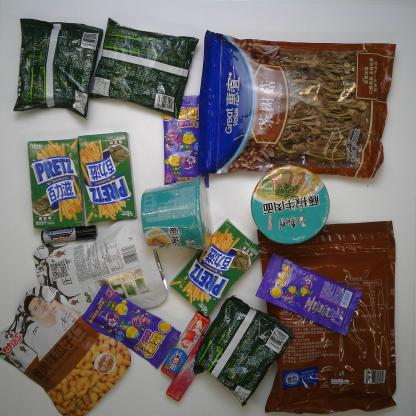Candy: (252, 253, 367, 339), (80, 283, 181, 369), (155, 89, 214, 190), (156, 305, 213, 380), (163, 332, 216, 402)
Dessert: (166, 214, 267, 318), (75, 128, 144, 226), (24, 132, 90, 232)
Dried Food: (195, 29, 399, 183), (256, 216, 399, 415)
Dried Fruit: (0, 282, 138, 414), (28, 212, 172, 322)
Instant Noodles: (88, 11, 200, 123), (192, 296, 293, 406), (10, 14, 104, 122), (246, 164, 342, 247), (136, 172, 219, 255)
Stationery: (32, 223, 102, 246)
